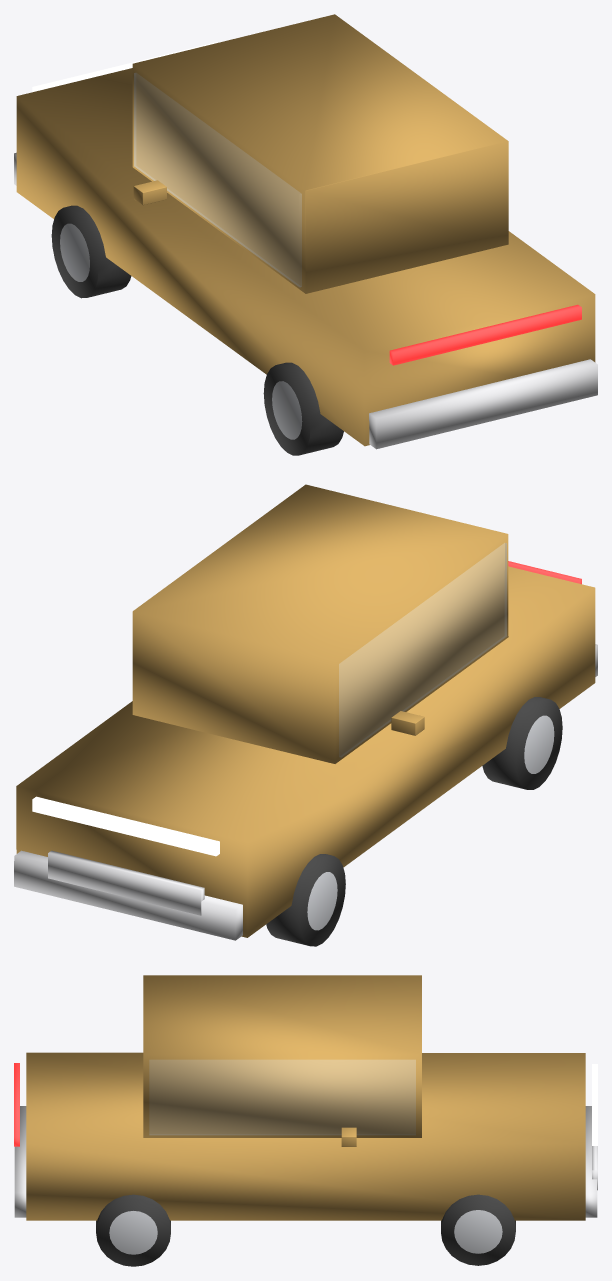
The model's file is vehicle.glb.
3 renders of one model, top to bottom at view 1: azimuth 30°, elevation 25°; view 2: azimuth 150°, elevation 25°; view 3: azimuth 270°, elevation 25°, orthographic. The views are drawn at different scales.
Visible parts, largest first — view 1: BODY_Roof, BODY_Main, GLASS_Greenhouse, BODY_Bumpers_Rear, WHEEL_RR_Tire, WHEEL_FR_Tire, LIGHT_Taillights, WHEEL_RR_Alloy, WHEEL_FR_Alloy, LIGHT_Headlights, BODY_Mirror_R; view 2: BODY_Roof, BODY_Main, GLASS_Greenhouse, BODY_Bumpers_Front, BODY_Grille, WHEEL_RR_Tire, WHEEL_FR_Tire, LIGHT_Headlights, WHEEL_FR_Alloy, WHEEL_RR_Alloy, BODY_Mirror_R; view 3: BODY_Main, BODY_Roof, GLASS_Greenhouse, WHEEL_RL_Tire, WHEEL_FL_Tire, WHEEL_RL_Alloy, WHEEL_FL_Alloy, BODY_Bumpers_Rear, BODY_Bumpers_Front, LIGHT_Taillights, LIGHT_Headlights.
Part boxes in pixels (x1,y1,x2,y2): BODY_Roof: (132, 14, 508, 293); BODY_Main: (16, 68, 595, 446); GLASS_Greenhouse: (134, 73, 301, 287); BODY_Bumpers_Rear: (369, 359, 597, 449); WHEEL_RR_Tire: (263, 362, 343, 455); WHEEL_FR_Tire: (51, 205, 131, 298); LIGHT_Taillights: (389, 304, 581, 365); WHEEL_RR_Alloy: (272, 381, 302, 439); WHEEL_FR_Alloy: (60, 223, 89, 281); LIGHT_Headlights: (32, 42, 216, 92); BODY_Mirror_R: (133, 180, 166, 205); BODY_Roof: (132, 484, 508, 763); BODY_Main: (16, 566, 595, 937); GLASS_Greenhouse: (339, 543, 506, 757); BODY_Bumpers_Front: (14, 850, 242, 940); BODY_Grille: (48, 850, 204, 915); WHEEL_RR_Tire: (482, 697, 562, 789); WHEEL_FR_Tire: (266, 854, 345, 946); LIGHT_Headlights: (32, 796, 219, 856); WHEEL_FR_Alloy: (307, 872, 337, 930); WHEEL_RR_Alloy: (524, 715, 554, 773); BODY_Mirror_R: (391, 711, 424, 735); BODY_Main: (26, 1052, 585, 1220); BODY_Roof: (143, 975, 421, 1137); GLASS_Greenhouse: (149, 1060, 415, 1135); WHEEL_RL_Tire: (96, 1194, 170, 1266); WHEEL_FL_Tire: (441, 1194, 515, 1265); WHEEL_RL_Alloy: (109, 1211, 157, 1254); WHEEL_FL_Alloy: (454, 1210, 502, 1253); BODY_Bumpers_Rear: (14, 1106, 26, 1217); BODY_Bumpers_Front: (585, 1106, 597, 1217); LIGHT_Taillights: (14, 1063, 19, 1146); LIGHT_Headlights: (592, 1064, 597, 1145).
Bounding box in the file's own units: 2.09 × 1.78 × 4.66.
